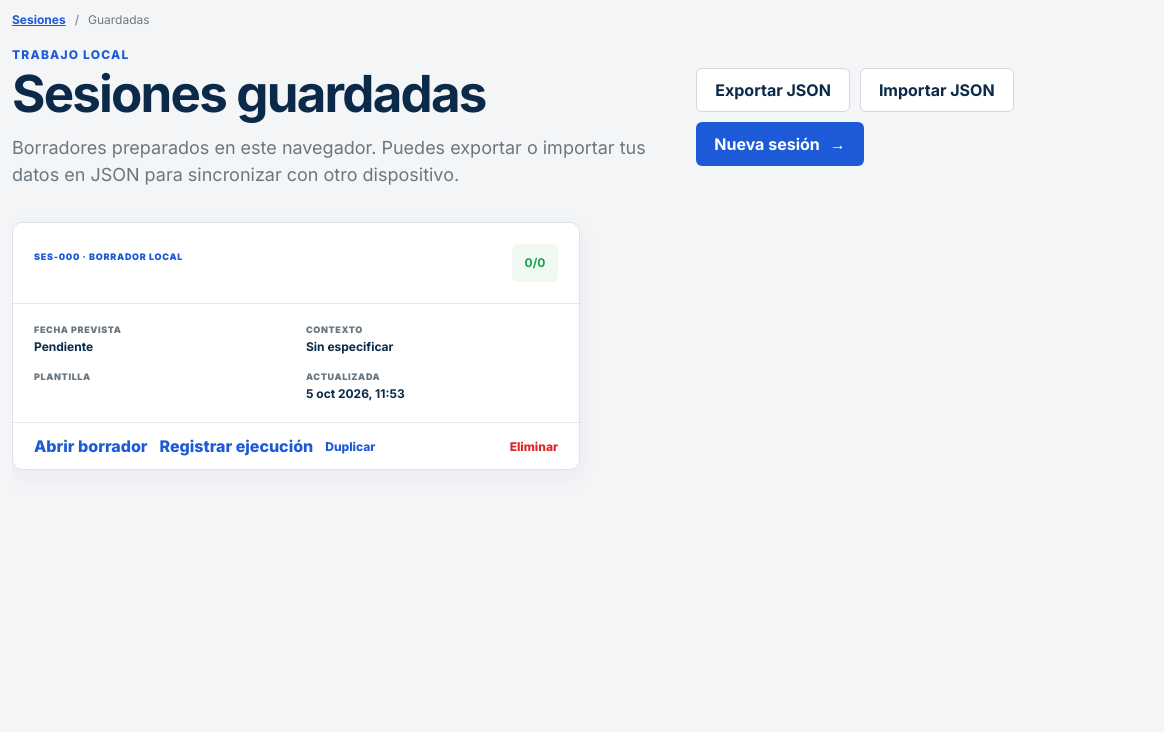
Test case: SavedSessionsPage › requires an inline confirmation before deleting a draft
Click the button "Eliminar".
click(534, 446)  # box [510, 439, 558, 454]
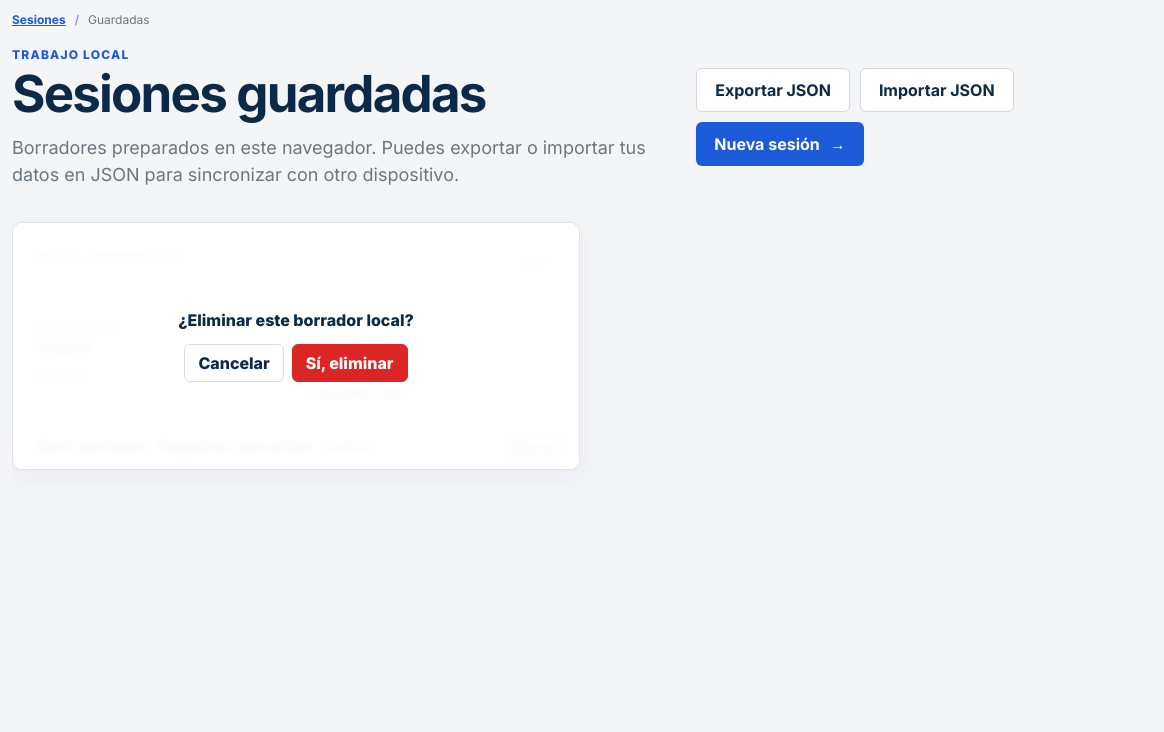
expect the message shows "¿Eliminar este borrador local?": met, box [178, 310, 414, 330]
Click the button "Sí, eliminar".
click(350, 363)  # box [292, 344, 408, 382]
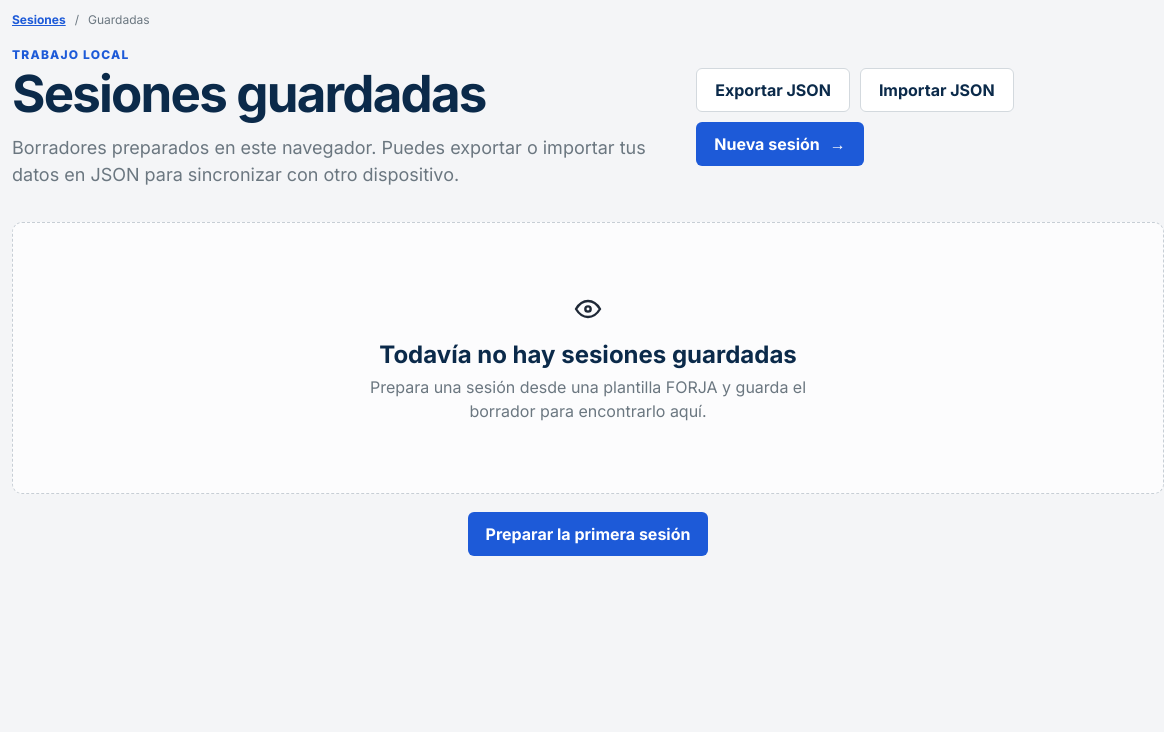
expect the heading "Todavía no hay sesiones guardadas" is shown: met, box [379, 340, 797, 369]
